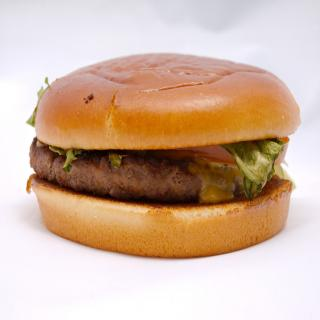Hamburger: (26, 54, 301, 258)
